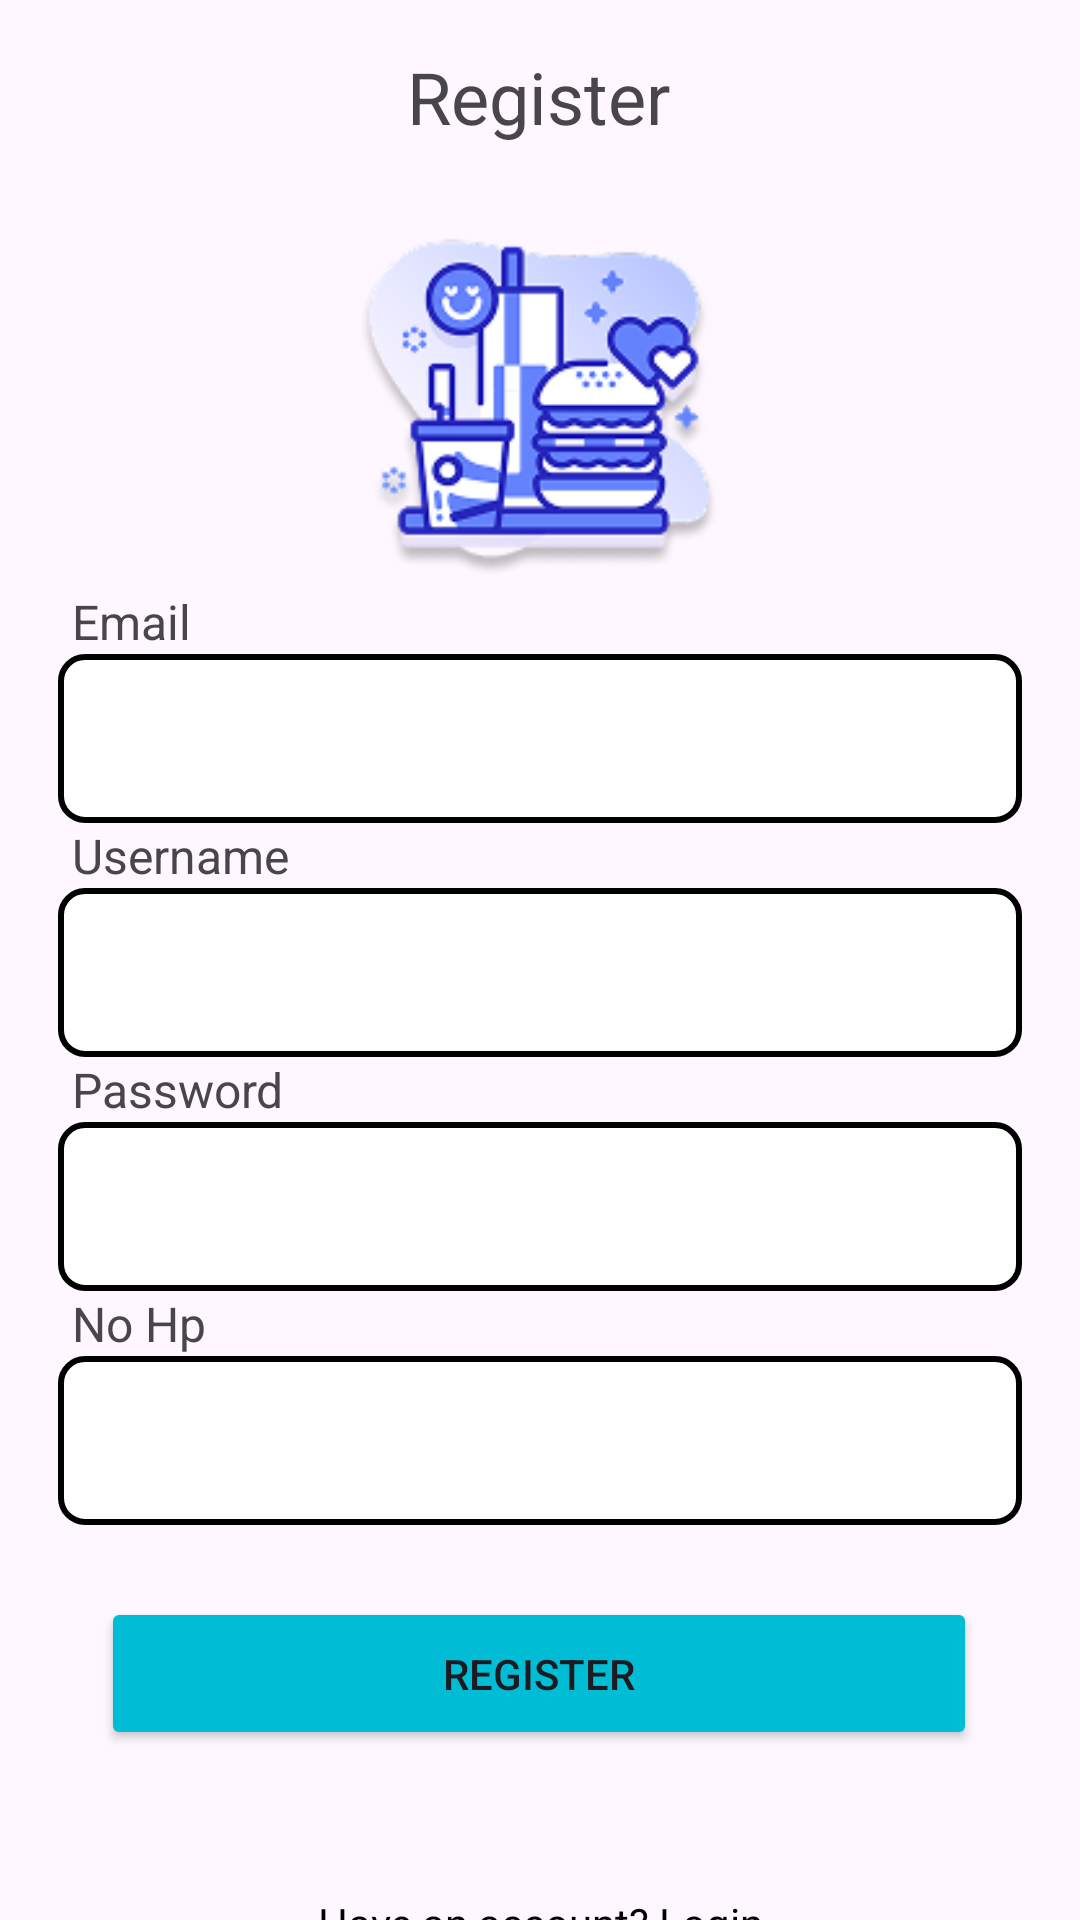

Icons on this 1080px x 1920px Android screen, each with the point to tap as (x,y):
food: (539,404)
